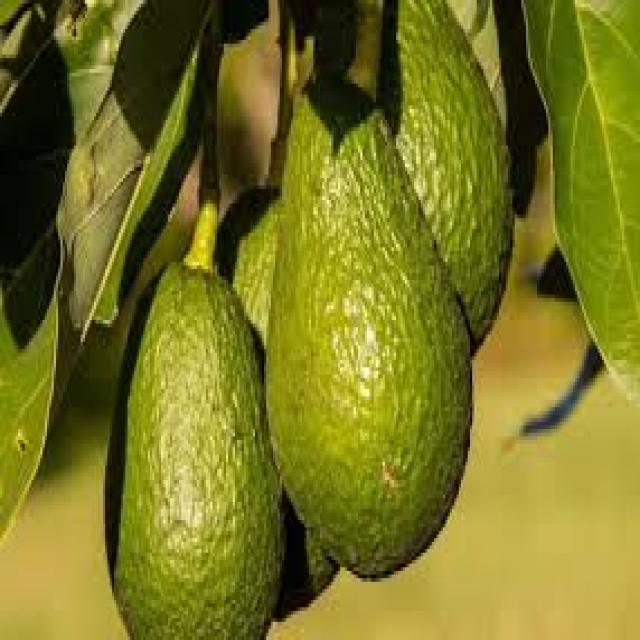avocado: (264, 49, 479, 613), (106, 199, 275, 640), (377, 0, 543, 340)
